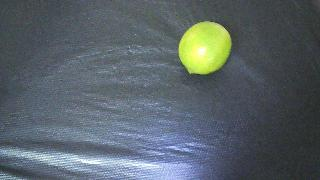LOCAL: (178, 21, 232, 75)
